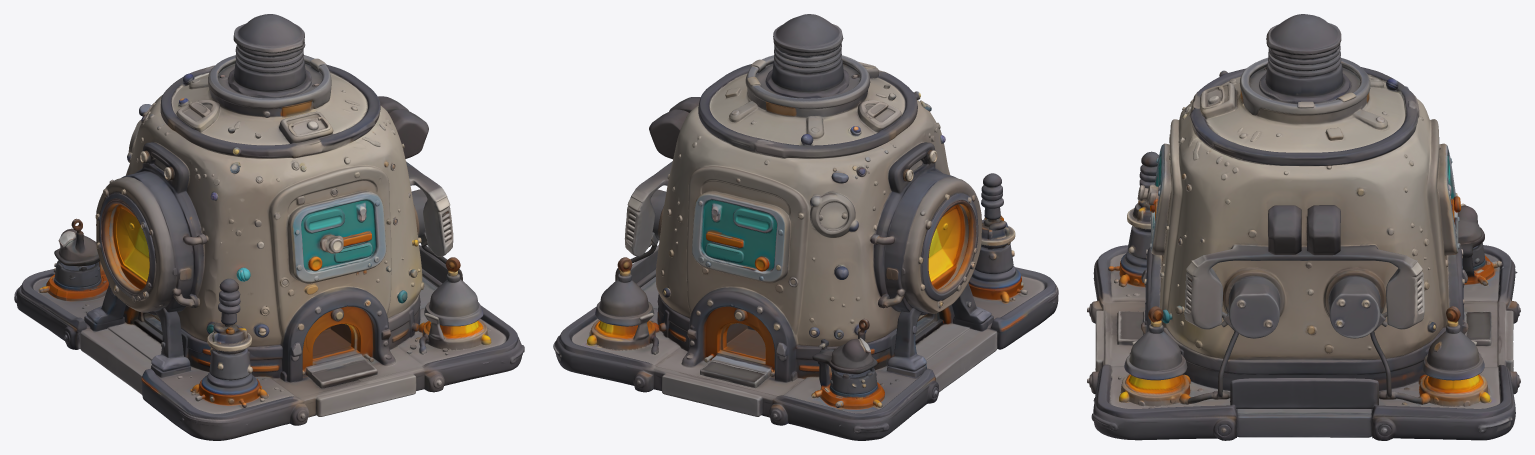
The model's file is smelter.glb.
3 views of the same model, side by side, from view 1: azimuth 30°, elevation 25°; view 2: azimuth 150°, elevation 25°; view 3: azimuth 270°, elevation 25° (orthographic). The views are drawn at different scales.
Parts seen in each view (by area): view 1: tripo_node_0ee58119-cbcc-4414-a4f8-2be750ff349c; view 2: tripo_node_0ee58119-cbcc-4414-a4f8-2be750ff349c; view 3: tripo_node_0ee58119-cbcc-4414-a4f8-2be750ff349c.
Part boxes in pixels (<box>): tripo_node_0ee58119-cbcc-4414-a4f8-2be750ff349c: <box>14,14,524,440</box>; tripo_node_0ee58119-cbcc-4414-a4f8-2be750ff349c: <box>553,14,1058,440</box>; tripo_node_0ee58119-cbcc-4414-a4f8-2be750ff349c: <box>1087,14,1520,440</box>.
Size of the model in its own units: 0.9296 by 0.8416 by 0.9757.
Materials: 1 (1 with a texture image).
